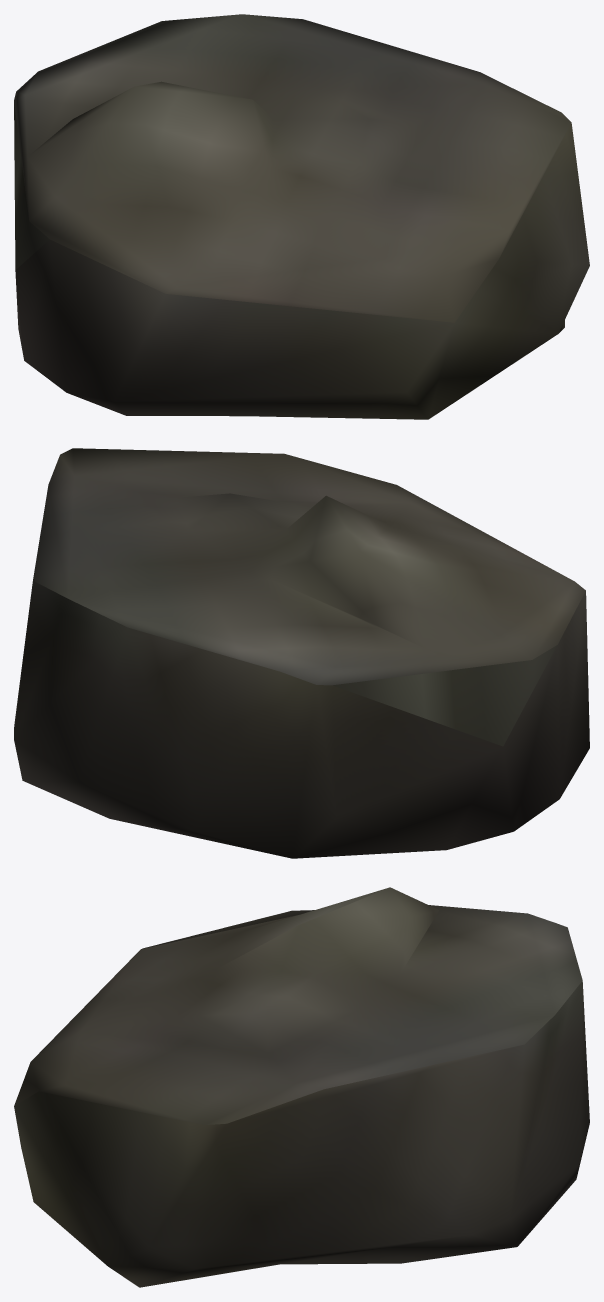
3 renders of one model, top to bottom at view 1: azimuth 30°, elevation 25°; view 2: azimuth 150°, elevation 25°; view 3: azimuth 270°, elevation 25°, orthographic. The views are drawn at different scales.
Visible parts, largest first — view 1: smallrock5; view 2: smallrock5; view 3: smallrock5.
Boxes of the visible parts, x1,y1,x2,y2 form: smallrock5: (14, 14, 589, 419); smallrock5: (14, 448, 589, 858); smallrock5: (14, 887, 589, 1287).
Bounding box in the file's own units: 3.52 × 1.68 × 3.47.
1 material, 1 textured.
